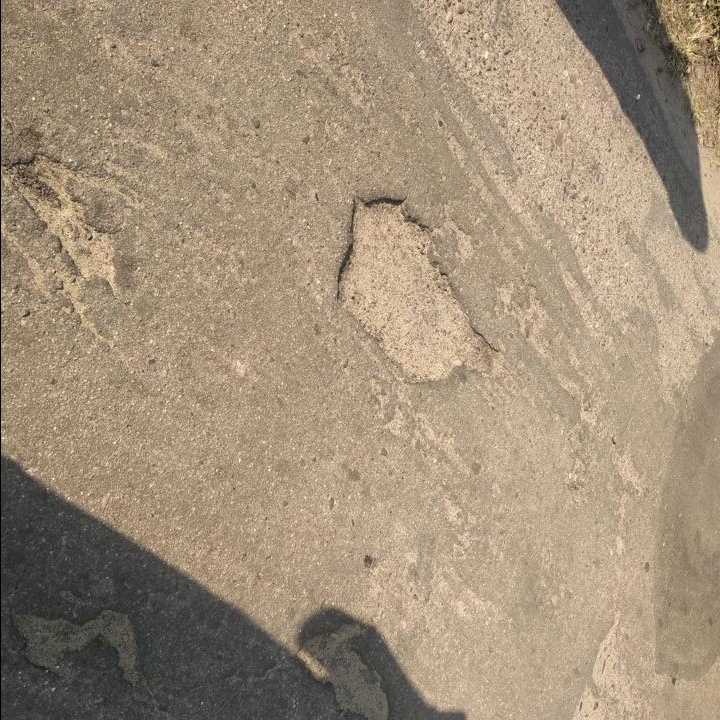pothole: (332, 186, 510, 393), (0, 142, 125, 301)
